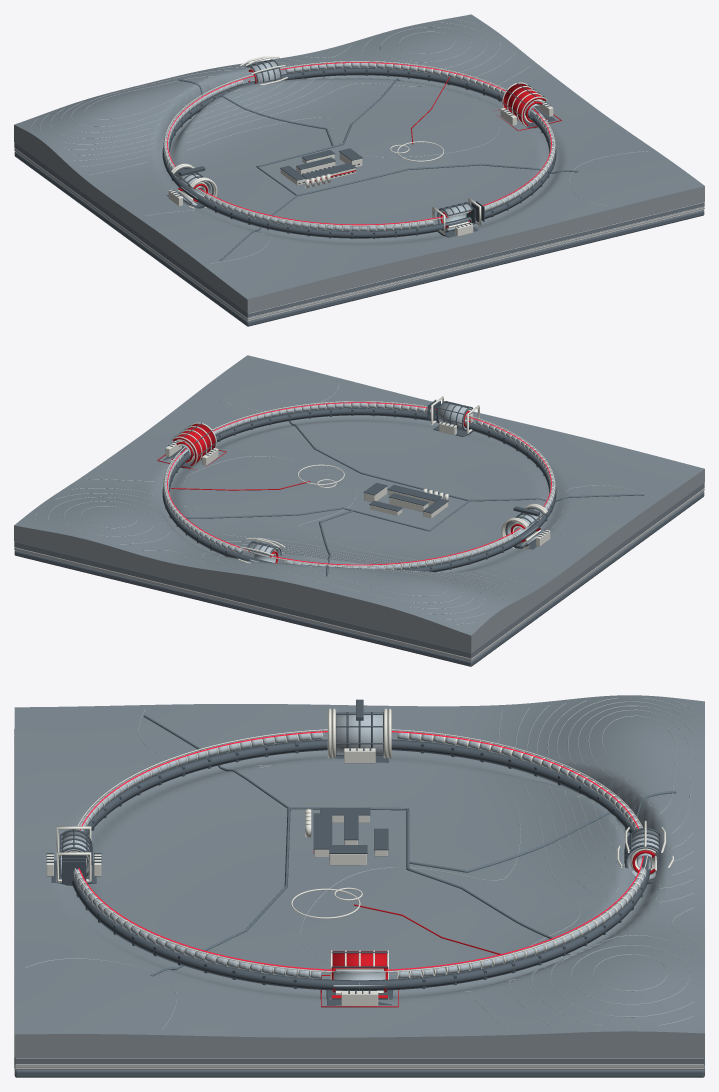
The model's file is collider-v2.glb.
The picture shows the model from 3 angles, top to bottom: view 1: azimuth 30°, elevation 25°; view 2: azimuth 150°, elevation 25°; view 3: azimuth 270°, elevation 25°; orthographic projection. The views are drawn at different scales.
Parts seen in each view (by area): view 1: Terrain / blue-grey limestone, Upper geological cut, Graphite instrument frames, Warm white engineering enamel, Satin cryostat stainless steel, Lower slate stratum, Architectural foundation, Fine survey contours, Limestone stratum, Surface access roads, Swiss red / experiment, Proton beam / Swiss red; view 2: Terrain / blue-grey limestone, Upper geological cut, Graphite instrument frames, Warm white engineering enamel, Satin cryostat stainless steel, Lower slate stratum, Architectural foundation, Fine survey contours, Limestone stratum, Surface access roads, Swiss red / experiment, Proton beam / Swiss red; view 3: Terrain / blue-grey limestone, Graphite instrument frames, Upper geological cut, Warm white engineering enamel, Satin cryostat stainless steel, Lower slate stratum, Architectural foundation, Fine survey contours, Limestone stratum, Surface access roads, Proton beam / Swiss red, Swiss red / experiment.
Boxes of the visible parts, x1,y1,x2,y2 form: Terrain / blue-grey limestone: (14,14,704,299); Upper geological cut: (14,125,704,312); Graphite instrument frames: (162,59,556,238); Warm white engineering enamel: (163,56,704,320); Satin cryostat stainless steel: (163,60,555,231); Lower slate stratum: (14,142,704,318); Architectural foundation: (14,151,704,326); Fine survey contours: (24,19,647,263); Limestone stratum: (14,148,704,321); Surface access roads: (178,78,578,261); Swiss red / experiment: (178,69,561,227); Proton beam / Swiss red: (167,62,551,225); Terrain / blue-grey limestone: (14,355,704,635); Upper geological cut: (14,469,704,652); Graphite instrument frames: (162,399,556,572); Warm white engineering enamel: (163,396,555,569); Satin cryostat stainless steel: (163,402,555,569); Lower slate stratum: (14,482,704,658); Architectural foundation: (14,491,704,666); Fine survey contours: (35,380,654,629); Limestone stratum: (14,488,704,661); Surface access roads: (186,408,644,576); Swiss red / experiment: (157,411,540,563); Proton beam / Swiss red: (167,402,551,565); Terrain / blue-grey limestone: (14,695,704,1037); Graphite instrument frames: (46,699,660,1005); Upper geological cut: (14,1031,704,1056); Warm white engineering enamel: (14,708,703,1069); Satin cryostat stainless steel: (61,713,659,986); Lower slate stratum: (15,1057,704,1065); Architectural foundation: (14,1057,704,1077); Fine survey contours: (26,697,693,1029); Limestone stratum: (15,1065,704,1069); Surface access roads: (143,715,676,976); Proton beam / Swiss red: (78,731,643,970); Swiss red / experiment: (313,850,655,1007).
Size of the model in its own units: 13.81 by 1.65 by 12.21.
